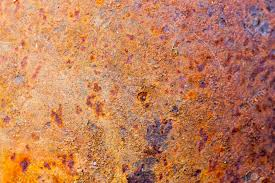rust: (1, 1, 275, 181), (122, 118, 179, 176), (240, 5, 274, 45)
